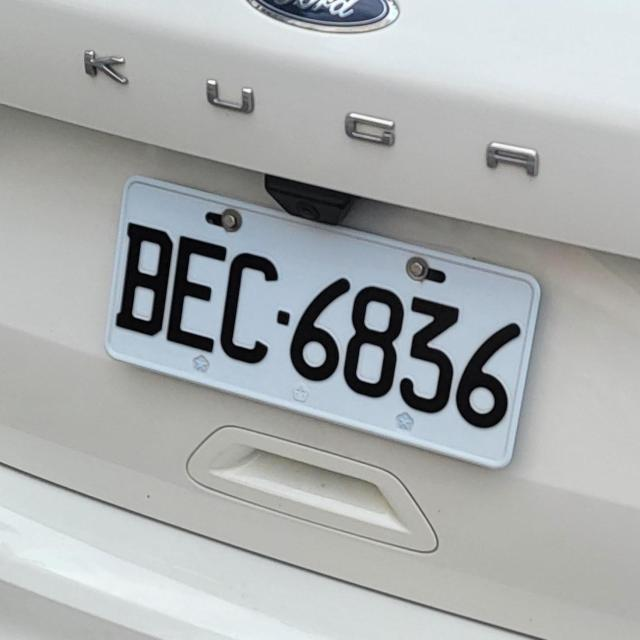W: (88, 159, 558, 470)
